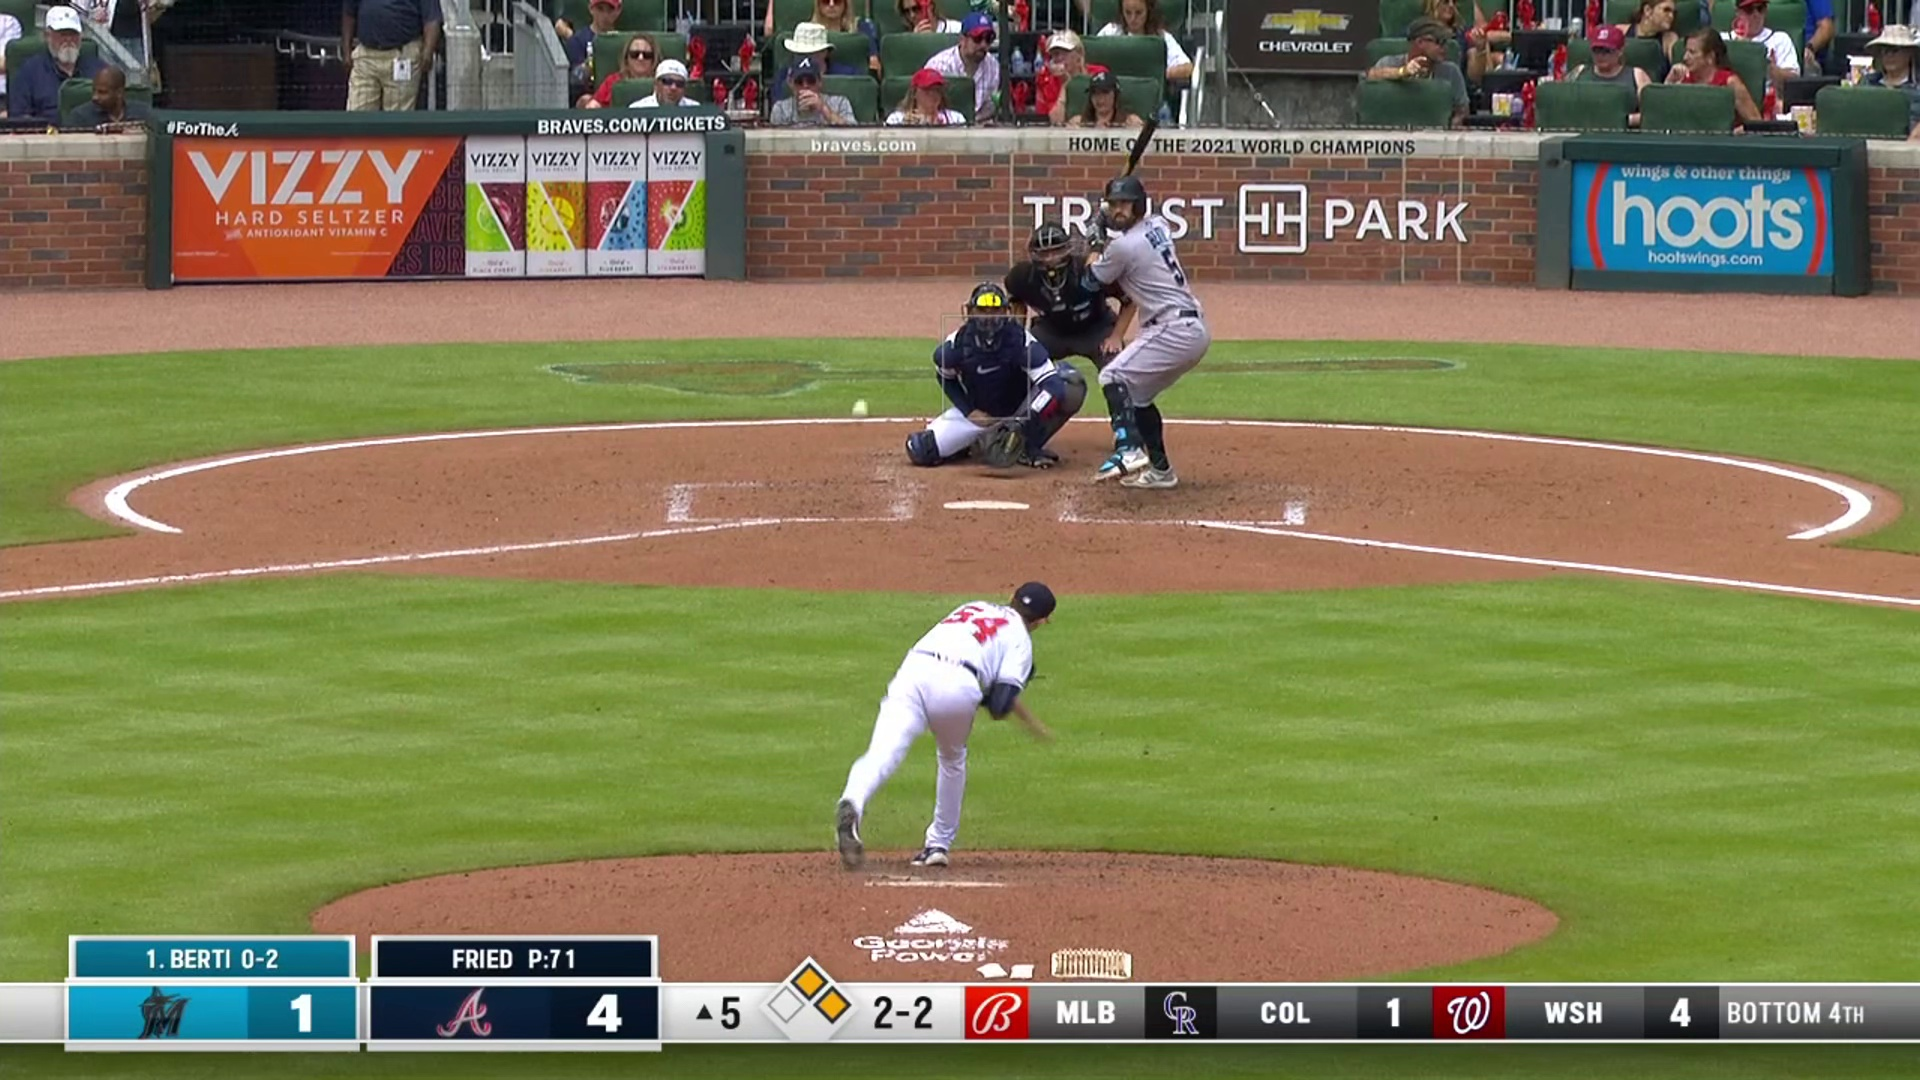baseball: (851, 400, 866, 417)
